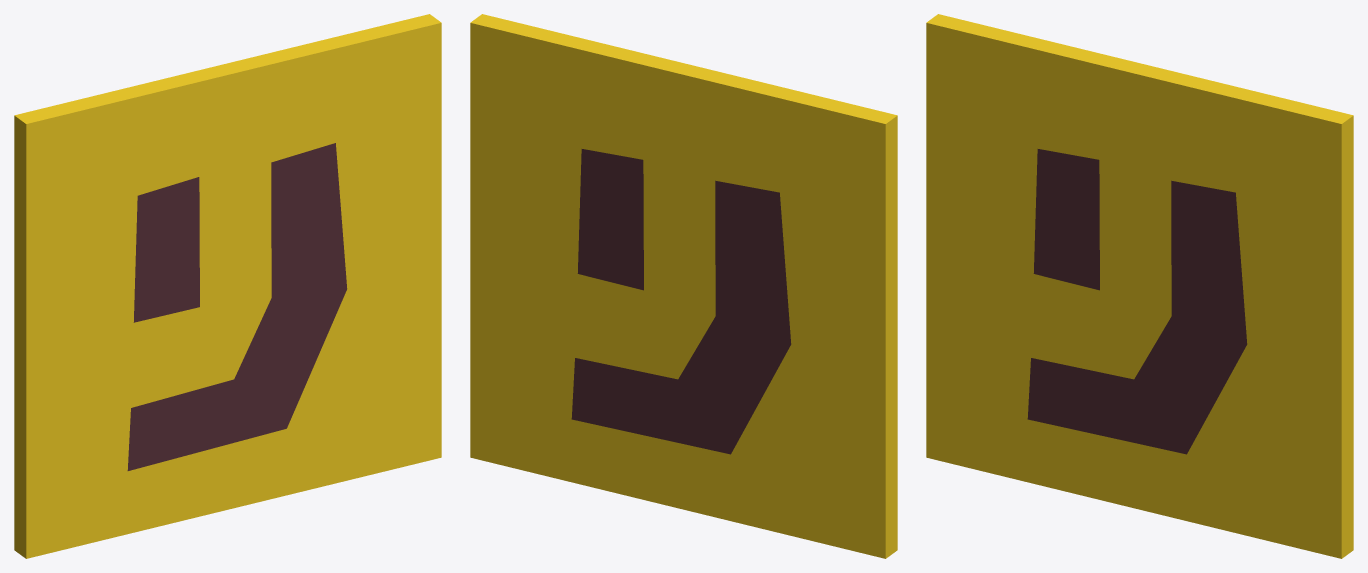
Rendered from scifi-scifi-sign-type-k.glb.
3 renders of one model, left to right at view 1: azimuth 30°, elevation 25°; view 2: azimuth 150°, elevation 25°; view 3: azimuth 330°, elevation 25°, orthographic.
Parts seen in each view (by area): view 1: scifi-sign-type-k; view 2: scifi-sign-type-k; view 3: scifi-sign-type-k.
Part boxes in pixels (bbox=[...]): scifi-sign-type-k: bbox=[14, 14, 441, 558]; scifi-sign-type-k: bbox=[470, 14, 897, 558]; scifi-sign-type-k: bbox=[926, 14, 1353, 558].
Size of the model in its own units: 1 by 1 by 0.05.
